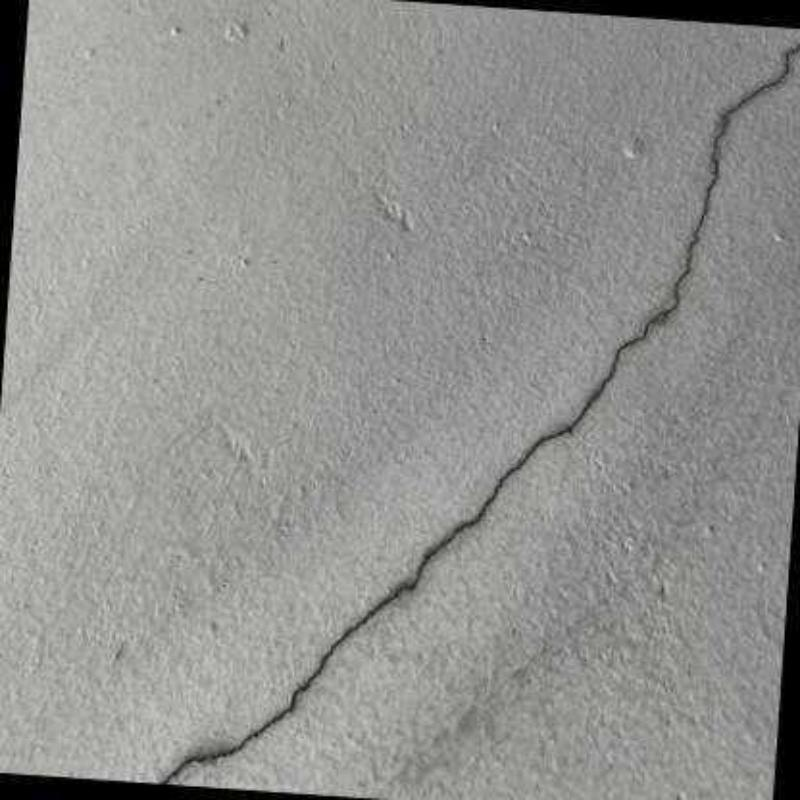pothole: (160, 42, 800, 785)
